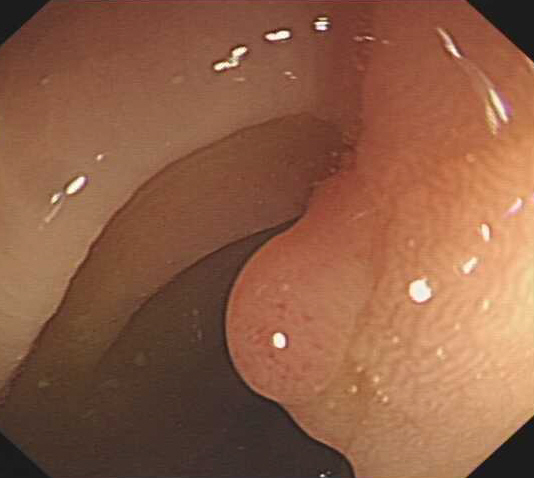adenoma: (221, 169, 390, 410)
